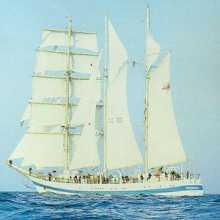fanchuan: (5, 3, 210, 198)
